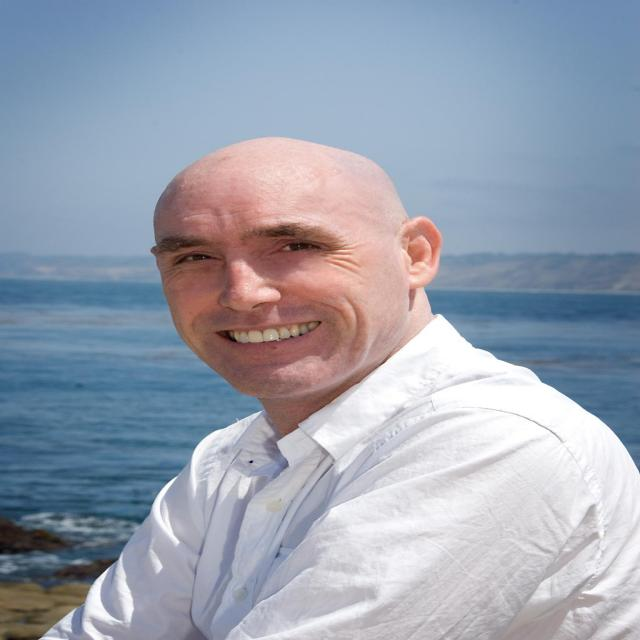nomask: (157, 184, 407, 396)
